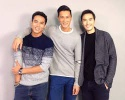male: (79, 9, 98, 34), (56, 5, 73, 31), (31, 11, 47, 37)
